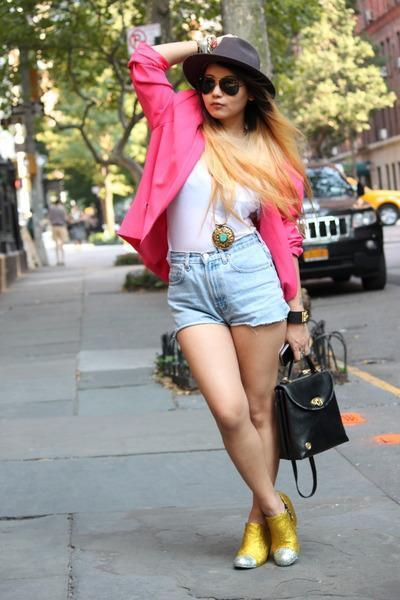bag: (271, 303, 347, 496)
hat: (179, 37, 259, 83)
jacket: (118, 42, 307, 304)
shirt: (162, 162, 260, 259)
shoe: (236, 495, 296, 566)
shorts: (166, 237, 289, 335)
sunglass: (187, 64, 247, 105)
